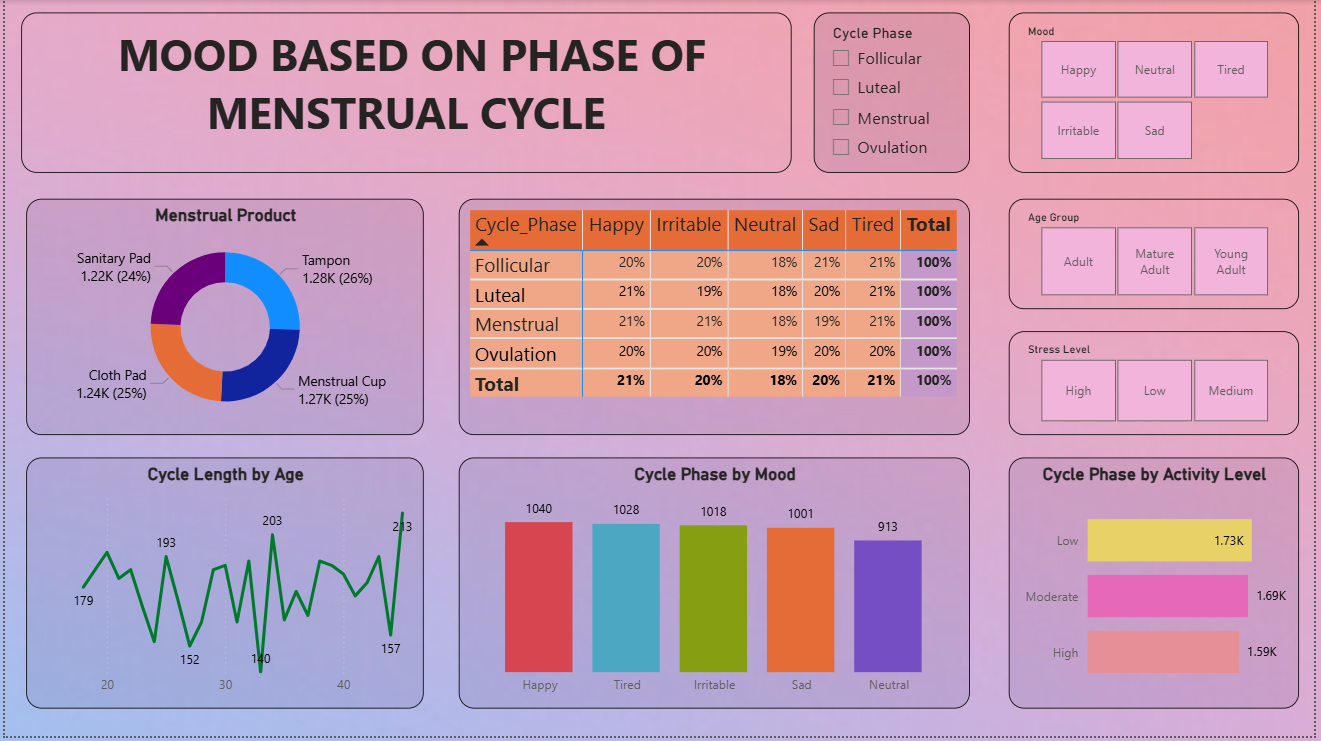

The page's visual inventory and layout, read from the dashboard file:
{"tool":"powerbi","page":{"name":"Page 2","canvas":[1280,720],"ordinal":1},"visuals":[{"type":"clusteredColumnChart","title":"Cycle Phase by Mood","fields":{"Y":["CountNonNull(menstrual_cycle_mood.Cycle_Phase)"],"Category":["menstrual_cycle_mood.Mood"]},"box":[443.9,447.6,500.1,245.8],"z":0},{"type":"lineChart","title":"Cycle Length by Age","fields":{"Y":["CountNonNull(menstrual_cycle_mood.Cycle_Length)"],"Category":["demographics_lifestyle.Age"]},"box":[20.8,447.6,388.9,245.8],"z":1000},{"type":"donutChart","title":" Menstrual Product","fields":{"Category":["menstrual_cycle_mood.Menstrual_Product"],"Y":["CountNonNull(menstrual_cycle_mood.Participant_ID)"]},"box":[20.8,194.4,388.9,231.1],"z":2000},{"type":"barChart","title":" Cycle Phase by Activity Level","fields":{"Category":["menstrual_cycle_mood.Activity_Level"],"Y":["CountNonNull(menstrual_cycle_mood.Cycle_Phase)"]},"box":[981.9,447.6,283.7,245.8],"z":3000},{"type":"pivotTable","fields":{"Columns":["menstrual_cycle_mood.Mood"],"Values":["Min(menstrual_cycle_mood.Participant_ID)"],"Rows":["menstrual_cycle_mood.Cycle_Phase"]},"box":[443.9,194.4,500.1,231.1],"z":4000},{"type":"slicer","fields":{"Values":["demographics_lifestyle.Age Group"]},"box":[981.9,194.4,283.7,107.6],"z":5000},{"type":"slicer","fields":{"Values":["menstrual_cycle_mood.Mood"]},"box":[981.9,12.2,283.7,156.5],"z":6000},{"type":"slicer","fields":{"Values":["demographics_lifestyle.Stress_Level"]},"box":[981.9,324.1,283.7,101.5],"z":7000},{"type":"textbox","box":[15.9,12.2,753.3,156.5],"z":8000},{"type":"slicer","fields":{"Values":["pain_relief_comfort.Cycle_Phase"]},"box":[791.2,12.2,152.9,156.5],"z":9000}]}

Visuals, with their boxes in screenshot pixels (x1, y1, x2, y2), scaled from the page's 1280x720 canvas onto the 1321x741 screenshot:
"Cycle Phase by Mood" clusteredColumnChart: box(458, 461, 974, 714)
"Cycle Length by Age" lineChart: box(21, 461, 423, 714)
" Menstrual Product" donutChart: box(21, 200, 423, 438)
" Cycle Phase by Activity Level" barChart: box(1013, 461, 1306, 714)
pivotTable - menstrual_cycle_mood.Mood x Min(menstrual_cycle_mood.Participant_ID): box(458, 200, 974, 438)
slicer - demographics_lifestyle.Age Group: box(1013, 200, 1306, 311)
slicer - menstrual_cycle_mood.Mood: box(1013, 13, 1306, 174)
slicer - demographics_lifestyle.Stress_Level: box(1013, 334, 1306, 438)
textbox: box(16, 13, 794, 174)
slicer - pain_relief_comfort.Cycle_Phase: box(817, 13, 974, 174)
